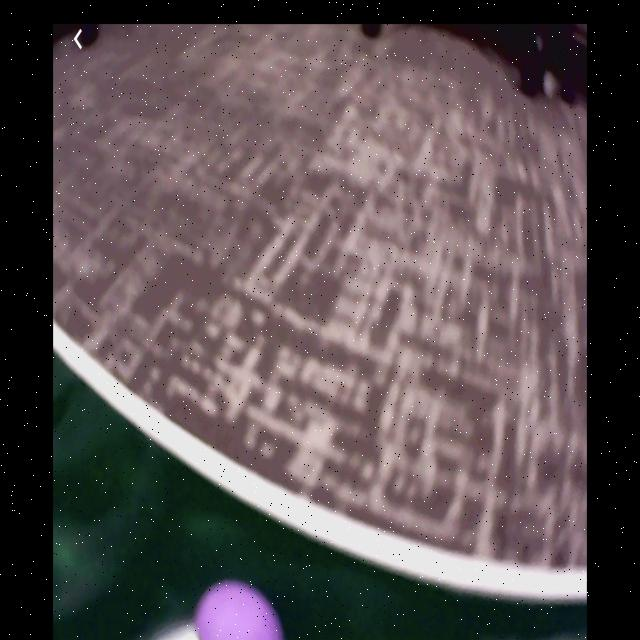ball: (194, 582, 285, 640)
